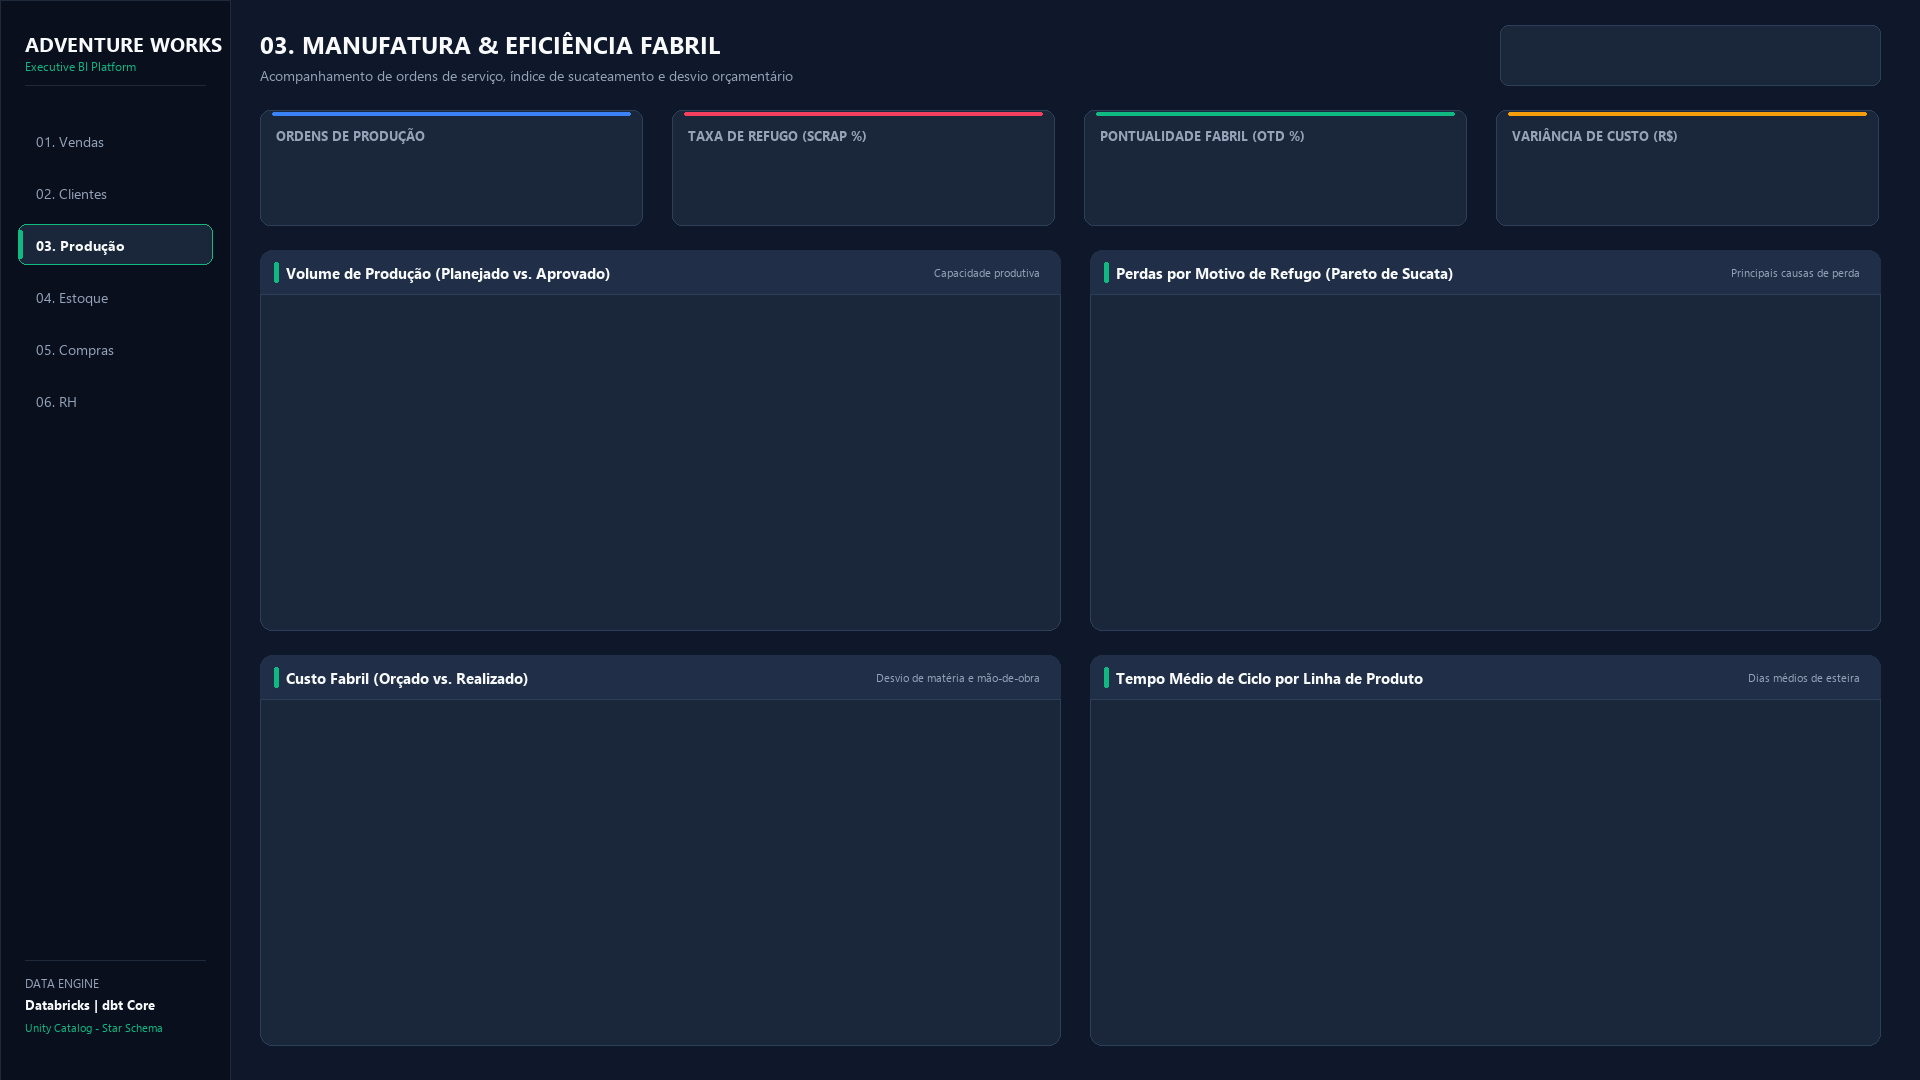

The page's visual inventory and layout, read from the dashboard file:
{"tool":"powerbi","page":{"name":"Produção","canvas":[1920,1080],"ordinal":2},"visuals":[{"type":"slicer","fields":{"Values":["dates.calendar_date"]},"box":[1510,35,360,45],"z":0},{"type":"cardVisual","fields":{"Data":["d_Medidas.Total de Ordens"]},"box":[260,140,380,75],"z":1000},{"type":"cardVisual","fields":{"Data":["d_Medidas.Taxa de Refugo %"]},"box":[670,140,380,75],"z":2000},{"type":"cardVisual","fields":{"Data":["d_Medidas.Pontualidade Produção %"]},"box":[1080,140,380,75],"z":3000},{"type":"cardVisual","fields":{"Data":["d_Medidas.Variância de Custo Fabril"]},"box":[1490,140,380,75],"z":4000},{"type":"clusteredColumnChart","fields":{"Category":["dates.calendar_date.Variation.Hierarquia de datas.Ano","dates.calendar_date.Variation.Hierarquia de datas.Mês"],"Y":["d_Medidas.Qtd Produzida Aprovada","d_Medidas.Qtd Produzida Planejada"]},"box":[270,298,780,320],"z":5000},{"type":"clusteredBarChart","fields":{"Category":["work_orders.scrap_reason_name"],"Y":["d_Medidas.Qtd Refugo (Scrap)"]},"box":[1100,298,770,320],"z":6000},{"type":"clusteredColumnChart","fields":{"Category":["products.category_name"],"Y":["d_Medidas.Custo Fabril Planejado","d_Medidas.Custo Fabril Real"]},"box":[270,702,780,330],"z":7000},{"type":"clusteredBarChart","fields":{"Category":["products.product_line_code","products.subcategory_name"],"Y":["d_Medidas.Tempo Médio de Ciclo (Dias)"]},"box":[1100,702,770,330],"z":8000}]}

Visuals, with their boxes on the page's 1920x1080 design canvas (x1, y1, x2, y2). These are canvas units, not pixel positions in the 1920x1080 screenshot, which may show the page scaled, cropped or inside an application window:
slicer - dates.calendar_date: rect(1510, 35, 1870, 80)
cardVisual - d_Medidas.Total de Ordens: rect(260, 140, 640, 215)
cardVisual - d_Medidas.Taxa de Refugo %: rect(670, 140, 1050, 215)
cardVisual - d_Medidas.Pontualidade Produção %: rect(1080, 140, 1460, 215)
cardVisual - d_Medidas.Variância de Custo Fabril: rect(1490, 140, 1870, 215)
clusteredColumnChart - dates.calendar_date.Variation.Hierarquia de datas.Ano x dates.calendar_date.Variation.Hierarquia de datas.Mês: rect(270, 298, 1050, 618)
clusteredBarChart - work_orders.scrap_reason_name x d_Medidas.Qtd Refugo (Scrap): rect(1100, 298, 1870, 618)
clusteredColumnChart - products.category_name x d_Medidas.Custo Fabril Planejado: rect(270, 702, 1050, 1032)
clusteredBarChart - products.product_line_code x products.subcategory_name: rect(1100, 702, 1870, 1032)
